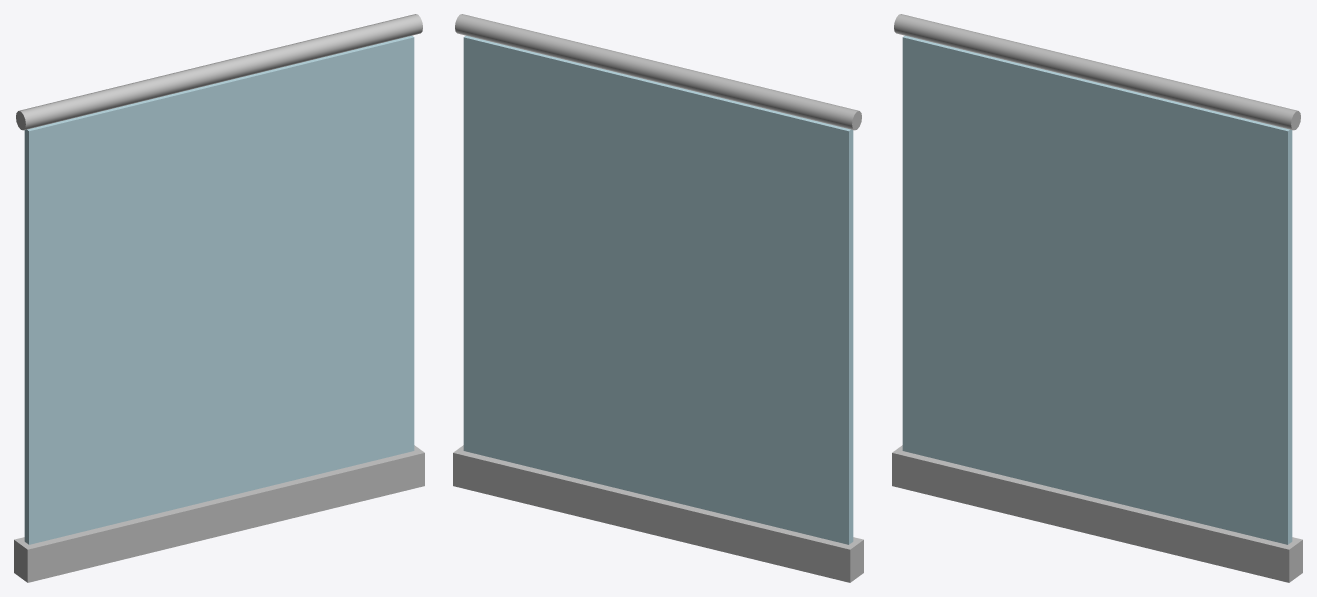
The model's file is airport.move.glass_balustrade.glb.
3 views of the same model, side by side, from view 1: azimuth 30°, elevation 25°; view 2: azimuth 150°, elevation 25°; view 3: azimuth 330°, elevation 25° (orthographic).
Parts seen in each view (by area): view 1: main__glass, main__steel_stainless; view 2: main__glass, main__steel_stainless; view 3: main__glass, main__steel_stainless.
Part boxes in pixels (x1,y1,x2,y2): main__glass: [24, 35, 414, 544]; main__steel_stainless: [14, 14, 424, 582]; main__glass: [463, 35, 853, 544]; main__steel_stainless: [453, 14, 863, 582]; main__glass: [902, 35, 1292, 544]; main__steel_stainless: [892, 14, 1302, 582].
Size of the model in its own units: 1 by 1.12 by 0.06.
